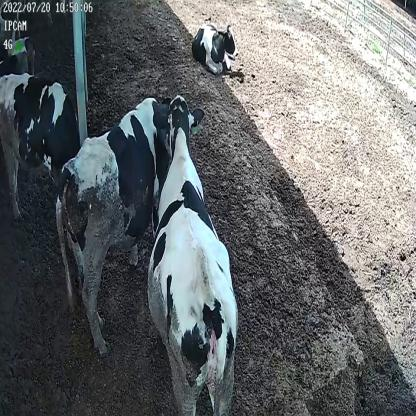cow: (52, 92, 184, 359), (148, 94, 239, 413), (0, 70, 86, 219), (190, 14, 240, 76)
